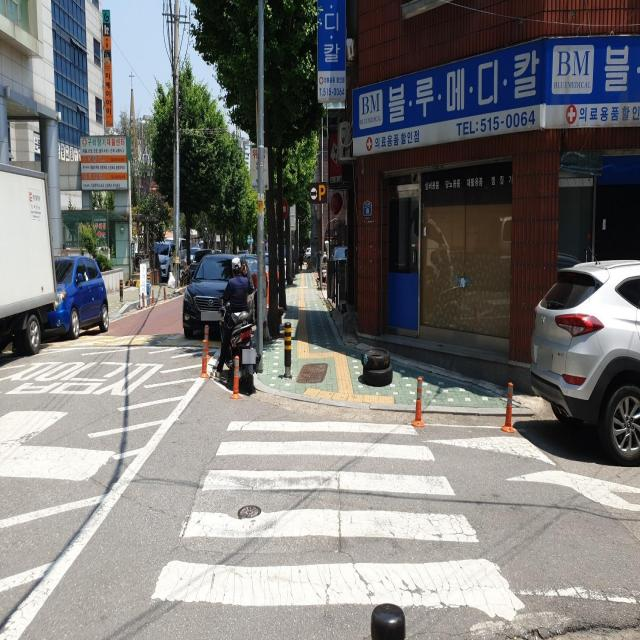횡단보도: (149, 415, 527, 624)
